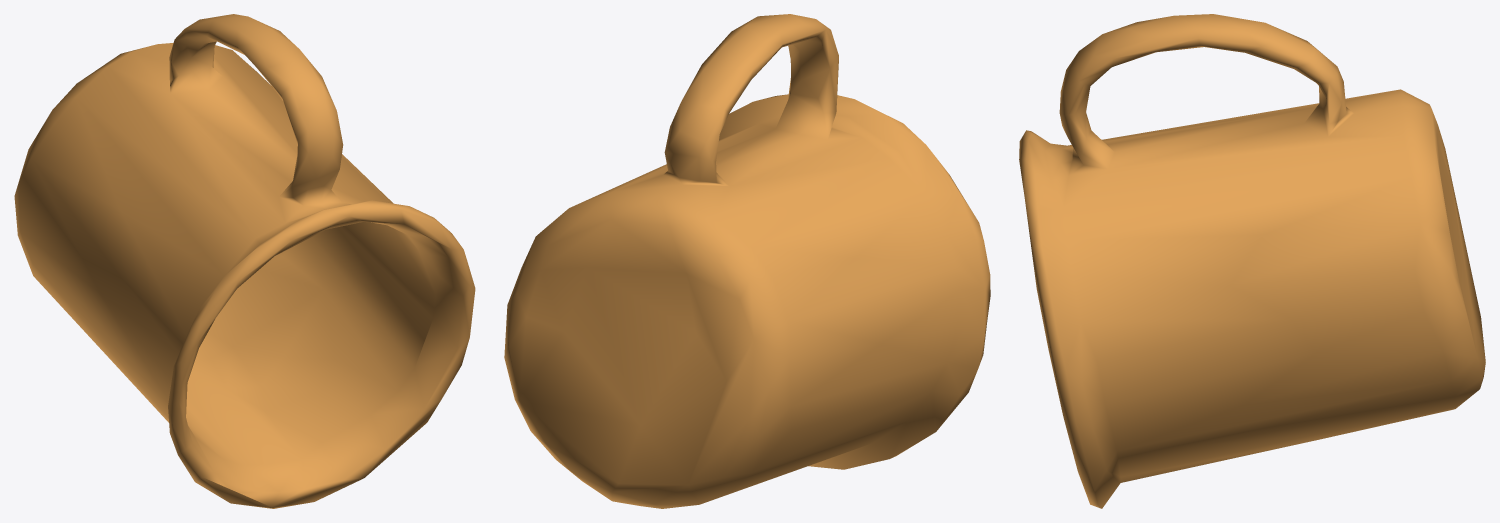
File: mug3_6.dae
The picture shows the model from 3 angles, left to right: view 1: azimuth 30°, elevation 25°; view 2: azimuth 150°, elevation 25°; view 3: azimuth 270°, elevation 25°; orthographic projection. The views are drawn at different scales.
Parts seen in each view (by area): view 1: RedCup_800_tex_019; view 2: RedCup_800_tex_019; view 3: RedCup_800_tex_019.
Part boxes in pixels (bbox=[...]): RedCup_800_tex_019: bbox=[14, 14, 475, 508]; RedCup_800_tex_019: bbox=[504, 14, 990, 508]; RedCup_800_tex_019: bbox=[1019, 14, 1485, 508].
Size of the model in its own units: 0.1961 by 0.2414 by 0.2688.
